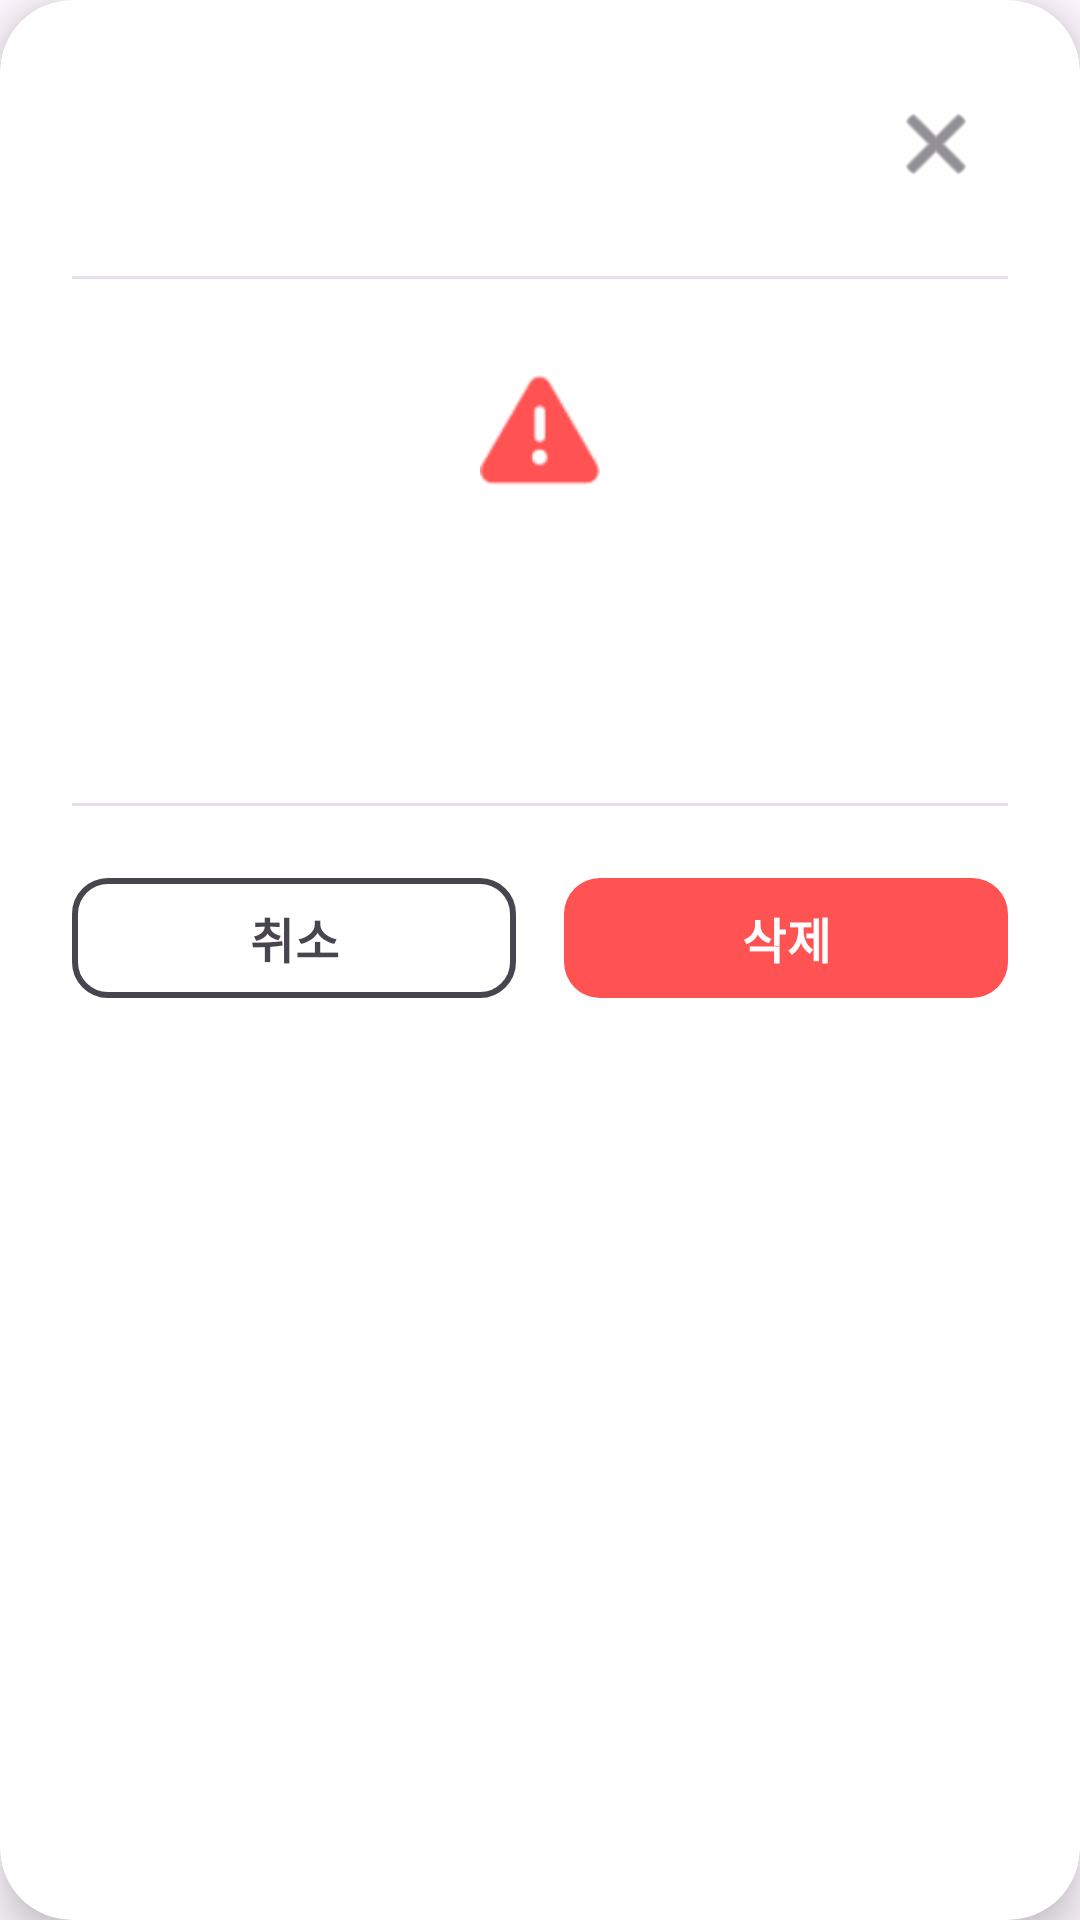

Where to tap for icons on this 1080×1920 app screen, as (x,y):
alert: (540,429)
취소: (936,144)
